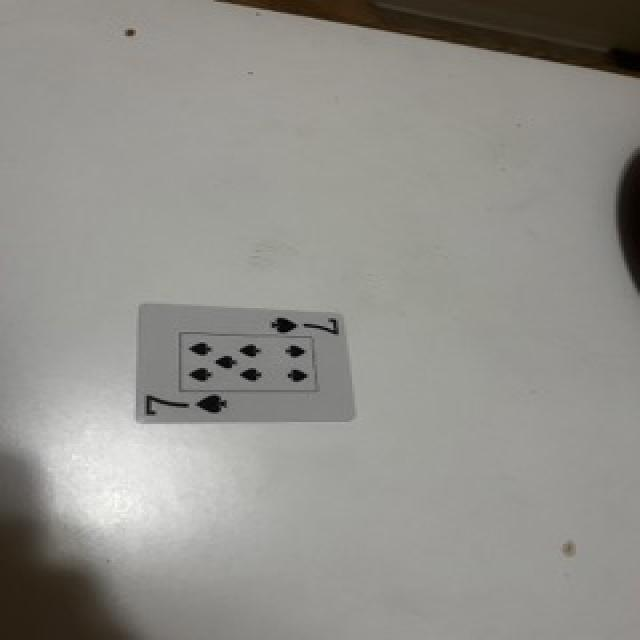7 of spades: (137, 304, 353, 422)
